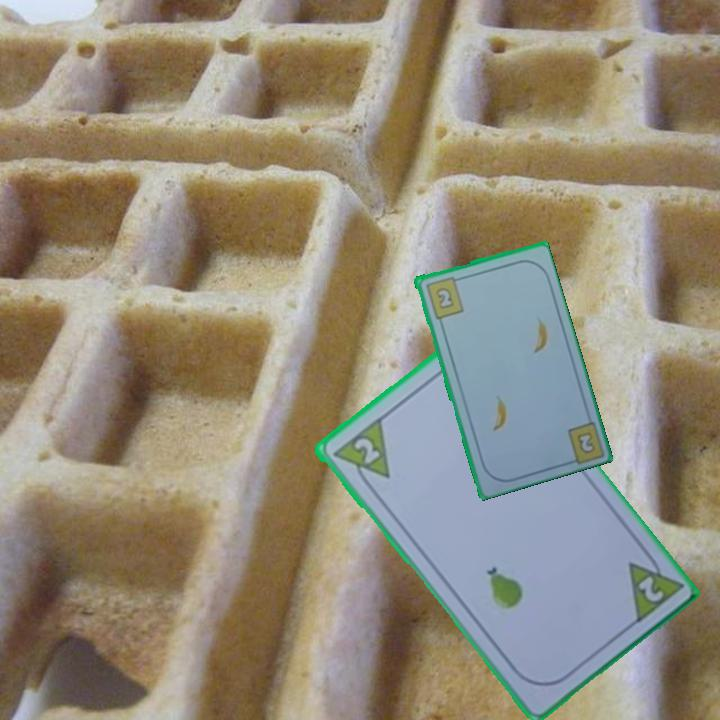2b: (422, 273, 466, 321), (573, 428, 598, 456)
2p: (349, 433, 382, 467), (633, 572, 666, 606)
